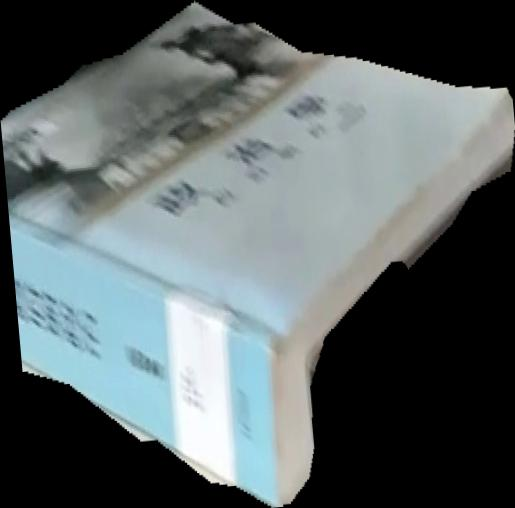flat: (1, 1, 515, 508)
